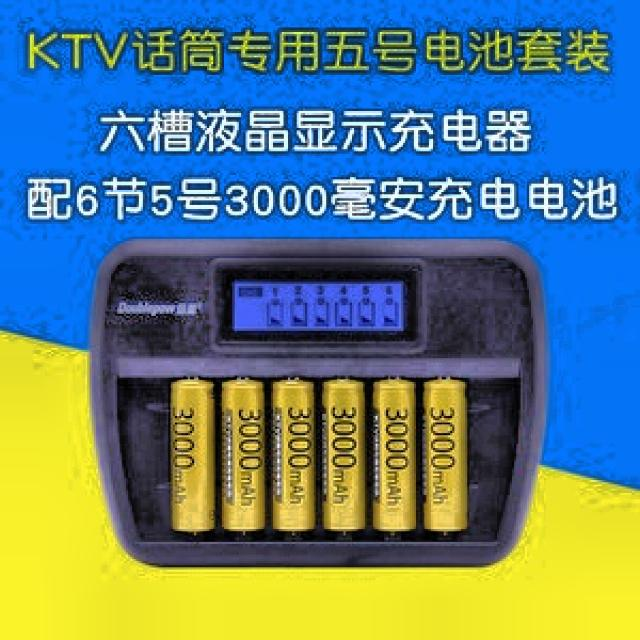Non-Valuable Waste - Batteries: (171, 379, 215, 532), (424, 379, 468, 532), (221, 380, 265, 531), (322, 380, 366, 531), (272, 380, 315, 532), (374, 379, 416, 532)
